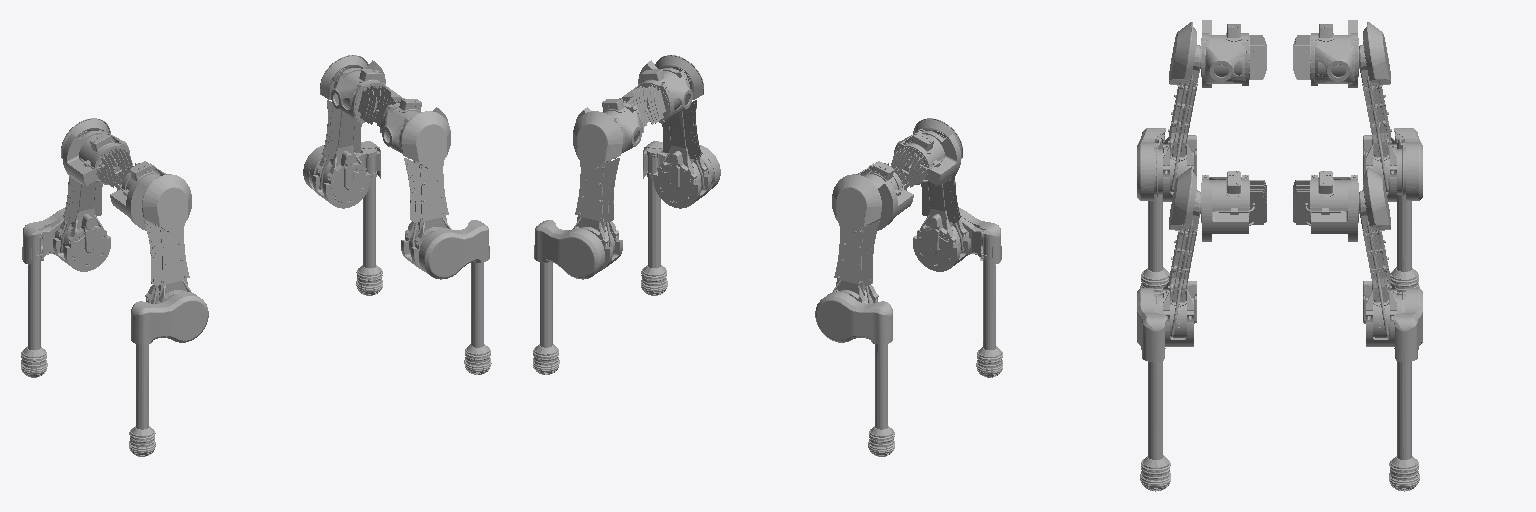
--- Facts derived from the render (not from the file) ---
The picture shows the robot from 3 angles, left to right: view 1: azimuth 30°, elevation 25°; view 2: azimuth 150°, elevation 25°; view 3: azimuth 270°, elevation 25°; orthographic projection.
Robot: anymal — 23 links, 22 joints (12 revolute, 10 fixed); root link ground; default pose: every joint at zero.
Links seen in each view (by area): view 1: RF_THIGH, RH_THIGH, LF_THIGH, LH_THIGH, RH_SHANK, LH_HIP, RF_SHANK, LF_HIP, LH_ADAPTER, LF_ADAPTER, RF_ADAPTER, RH_HIP (+4 smaller); view 2: LF_THIGH, LH_THIGH, RF_THIGH, RH_THIGH, LH_SHANK, RH_HIP, LF_SHANK, RF_HIP, RH_ADAPTER, RF_ADAPTER, LF_ADAPTER, LH_HIP (+4 smaller); view 3: LF_THIGH, RF_THIGH, LH_THIGH, RH_THIGH, LF_HIP, RF_HIP, LH_HIP, RH_HIP, RF_ADAPTER, LF_ADAPTER, LF_SHANK, RF_SHANK (+4 smaller).
Boxes of the visible links, x1,y1,x2,y2 form: RF_THIGH: (401, 111, 450, 271); RH_THIGH: (142, 174, 191, 303); LF_THIGH: (312, 55, 370, 208); LH_THIGH: (53, 118, 110, 271); RH_SHANK: (131, 292, 208, 344); LH_HIP: (63, 129, 132, 187); RF_SHANK: (419, 220, 489, 279); LF_HIP: (331, 60, 401, 124); LH_ADAPTER: (21, 230, 47, 377); LF_ADAPTER: (356, 148, 382, 295); RF_ADAPTER: (464, 262, 491, 374); RH_HIP: (110, 161, 167, 230); LF_THIGH: (573, 111, 622, 271); LH_THIGH: (832, 174, 881, 303); RF_THIGH: (653, 55, 711, 208); RH_THIGH: (913, 118, 970, 271); LH_SHANK: (815, 292, 892, 344); RH_HIP: (891, 129, 960, 187); LF_SHANK: (534, 220, 604, 279); RF_HIP: (622, 60, 692, 124); RH_ADAPTER: (976, 230, 1002, 377); RF_ADAPTER: (641, 148, 667, 295); LF_ADAPTER: (533, 262, 559, 374); LH_HIP: (856, 161, 913, 230); LF_THIGH: (1359, 167, 1401, 346); RF_THIGH: (1158, 167, 1200, 346); LH_THIGH: (1359, 22, 1401, 201); RH_THIGH: (1158, 22, 1200, 201); LF_HIP: (1293, 171, 1358, 241); RF_HIP: (1201, 171, 1266, 241); LH_HIP: (1293, 20, 1358, 87); RH_HIP: (1201, 20, 1266, 87); RF_ADAPTER: (1140, 361, 1170, 491); LF_ADAPTER: (1389, 361, 1419, 491); LF_SHANK: (1394, 288, 1422, 361); RF_SHANK: (1137, 288, 1165, 361).
Bounding box of the posed robot: 0.9429 × 0.568 × 0.6502 m (x, y, z).
Meshes: 8 distinct files referenced, 16 mesh visuals loaded (7 binary STL); not drawn: 1 (reference not matched to a file when rendering).

robot.urdf — anymal:
<?xml version="1.0" encoding="utf-8"?>
<!-- =================================================================================== -->
<!--   Copyright 2019 ANYbotics, https://www.anybotics.com                               -->
<!-- =================================================================================== -->
<!-- This file contains the description of the ANYmal B robot. -->
<robot name="anymal"
    xmlns:xacro="http://www.ros.org/wiki/xacro">  
    <!-- Material for the visual primitives -->  
    <material name="anymal_material">    
        <color rgba="0.7 0.7 0.7 1.0"/>  
    </material>  
      <link name="ground"/>
      <joint name="base_joint" type="fixed">
        <origin rpy="0 0 0" xyz="0 0 0.0"/>
        <parent link="ground"/>
        <child link="base"/>
      </joint>
    <!-- Base link -->  
    <link name="base">    
        <visual>      
            <origin rpy="0 0 0" xyz="0 0 0"/>      
            <geometry>        
                <mesh filename="../meshes/stl/anymal_base.stl" scale="0.001 0.001 0.001"/>      
            </geometry>      
            <material name="anymal_material"/>    
        </visual>    
        <collision>      
            <!-- Main Body -->      
            <origin rpy="0 0 0" xyz="0 0 0.08"/>      
            <geometry>        
                <box size="0.531 0.27 0.24"/>      
            </geometry>    
        </collision>    
        <collision>      
            <!-- HAA actuators -->      
            <origin rpy="0 1.57079632679 0" xyz="0.227 0.116 0"/>      
            <geometry>        
                <cylinder length="0.1" radius="0.05"/>      
            </geometry>    
        </collision>    
        <collision>      
            <origin rpy="0 1.57079632679 0" xyz="0.227 -0.116 0"/>      
            <geometry>        
                <cylinder length="0.1" radius="0.05"/>      
            </geometry>    
        </collision>    
        <collision>      
            <origin rpy="0 1.57079632679 0" xyz="-0.227 0.116 0"/>      
            <geometry>        
                <cylinder length="0.1" radius="0.05"/>      
            </geometry>    
        </collision>    
        <collision>      
            <origin rpy="0 1.57079632679 0" xyz="-0.227 -0.116 0"/>      
            <geometry>        
                <cylinder length="0.1" radius="0.05"/>      
            </geometry>    
        </collision>    
        <collision>      
            <!-- Belly plate front bump -->      
            <origin rpy="0 0 0" xyz="0.2155 0.0 -0.09"/>      
            <geometry>        
                <box size="0.1 0.1 0.07"/>      
            </geometry>    
        </collision>    
        <collision>      
            <!-- Belly plate hind bump-->      
            <origin rpy="0 0 0" xyz="-0.2155 0.0 -0.09"/>      
            <geometry>        
                <box size="0.1 0.1 0.07"/>      
            </geometry>    
        </collision>    
        <collision>      
            <!-- Belly plate middle bump-->      
            <origin rpy="0 0 0" xyz="0 0 -0.09"/>      
            <geometry>        
                <box size="0.531 0.02 0.07"/>      
            </geometry>    
        </collision>  
    </link>  
    <!-- Fixed joint to add dummy inertia link -->  
    <joint name="base_to_base_inertia" type="fixed">    
        <parent link="base"/>    
        <child link="base_inertia"/>    
        <origin rpy="0 0 0" xyz="0 0 0"/>  
    </joint>  
    <!-- Dummy inertia link, because KDL cannot have inertia on the base link -->  
    <link name="base_inertia">    
        <inertial>      
            <origin rpy="0 0 0" xyz="-0.001960558279 -0.001413217745 0.050207125344"/>      
            <mass value="16.793507758"/>      
            <inertia ixx="0.217391101503" ixy="-0.00132873239126" ixz="-0.00228200226173" iyy="0.639432546734" iyz="-0.00138078263145" izz="0.62414077654"/>    
        </inertial>  
    </link>  
    <link name="LF_HIP">    
        <visual>      
            <origin rpy="0 0 0.0" xyz="0 0 0"/>      
            <geometry>        
                <mesh filename="../meshes/stl/anymal_hip_l.stl" scale="0.001 0.001     0.001"/>      
            </geometry>      
            <material name="anymal_material"/>    
        </visual>    
        <collision>      
            <!-- Protector -->      
            <origin rpy="1.57079632679 0 0" xyz="0.0635 -0.009 0.0"/>      
            <geometry>        
                <cylinder length="0.1" radius="0.08"/>      
            </geometry>    
        </collision>    
        <collision>      
            <!-- Heatfins -->      
            <origin rpy="1.57079632679 0 0" xyz="0.0635 -0.074 0.0"/>      
            <geometry>        
                <cylinder length="0.03" radius="0.045"/>      
            </geometry>    
        </collision>    
        <inertial>      
            <origin rpy="0 0 0" xyz="0.064516258147 -0.003787101702 -0.000152184388"/>      
            <mass value="1.42462064"/>      
            <inertia ixx="0.00243023349564" ixy="-1.53023971e-05" ixz="-2.1819095354e-05" iyy="0.00230257239103" iyz="2.6473021273e-05" izz="0.0019806759227"/>    
        </inertial>  
    </link>  
    <!-- Hip joint -->  
    <joint name="LF_HAA" type="revolute">    
        <parent link="base"/>    
        <child link="LF_HIP"/>    
        <origin xyz="0.277 0.116 0.0"/>    
        <axis xyz="1 0 0"/>    
        <limit command_effort="40" current="10" effort="80" gear_velocity="10" lower="-9.42" upper="9.42" velocity="15"/>    
        <dynamics damping="0.0" friction="0.0"/>  
    </joint>  
    <link name="LF_THIGH">    
        <visual>      
            <origin rpy="0 0 0.0" xyz="0 0 0"/>      
            <geometry>        
                <mesh filename="../meshes/stl/anymal_thigh_l.stl" scale="0.001 0.001     0.001"/>      
            </geometry>      
            <material name="anymal_material"/>    
        </visual>    
        <collision>      
            <!-- thigh with heat fins -->      
            <origin rpy="0.145 0 0" xyz="0 0.035 -0.125"/>      
            <geometry>        
                <box size="0.08 0.04 0.25"/>      
            </geometry>    
        </collision>    
        <collision>      
            <!-- KFE actuator -->      
            <origin rpy="1.57079632679 0 0" xyz="0.0 0.069 -0.25"/>      
            <geometry>        
                <cylinder length="0.12" radius="0.06"/>      
            </geometry>    
        </collision>    
        <collision>      
            <!-- upper protector -->      
            <origin rpy="1.71579632679 0 0" xyz="0 -0.005 0"/>      
            <geometry>        
                <cylinder length="0.12" radius="0.066"/>      
            </geometry>    
        </collision>    
        <inertial>      
            <origin rpy="0 0 0" xyz="-0.003897968082 0.054226618537 -0.214583373795"/>      
            <mass value="1.634976467"/>      
            <inertia ixx="0.0120367944369" ixy="6.762065206e-05" ixz="0.000287806340448" iyy="0.0120643637939" iyz="-0.00140610131218" izz="0.00249422574881"/>    
        </inertial>  
    </link>  
    <!-- Thigh joint -->  
    <joint name="LF_HFE" type="revolute">    
        <parent link="LF_HIP"/>    
        <child link="LF_THIGH"/>    
        <origin xyz="0.0635                    0.041                    0.0"/>    
        <axis xyz="0 1 0"/>    
        <limit command_effort="40" current="10" effort="80" gear_velocity="10" lower="-9.42" upper="9.42" velocity="15.0"/>    
        <dynamics damping="0.0" friction="0.0"/>  
    </joint>  
    <link name="LF_SHANK">    
        <visual>      
            <origin rpy="0 0 0.0" xyz="0 0 0"/>      
            <geometry>        
                <mesh filename="../meshes/stl/anymal_shank_l.stl" scale="0.001 0.001     0.001"/>      
            </geometry>      
            <material name="anymal_material"/>    
        </visual>    
        <collision>      
            <origin rpy="0 1.57079632679 0" xyz="0.065 -0.015 0.01"/>      
            <geometry>        
                <box size="0.08 0.07 0.13"/>      
            </geometry>    
        </collision>    
        <inertial>      
            <origin rpy="0 0 0" xyz="0.030816858139 -0.004617229294 0.000893125713"/>      
            <mass value="0.207204302"/>      
            <inertia ixx="0.0002104880248" ixy="-5.6750980345e-05" ixz="1.0127699391e-05" iyy="0.000676270210023" iyz="-8.22869024e-07" izz="0.000545032674924"/>    
        </inertial>  
    </link>  
    <!-- Shank joint -->  
    <joint name="LF_KFE" type="revolute">    
        <parent link="LF_THIGH"/>    
        <child link="LF_SHANK"/>    
        <origin xyz="0.0 0.109 -0.25"/>    
        <axis xyz="0 1 0"/>    
        <limit command_effort="40" current="10" effort="80" gear_velocity="10" lower="-9.42" upper="9.42" velocity="15.0"/>    
        <dynamics damping="0.0" friction="0.0"/>  
    </joint>  
    <!-- Shank to Adapter joint -->  
    <joint name="LF_SHANK_TO_ADAPTER" type="fixed">    
        <parent link="LF_SHANK"/>    
        <child link="LF_ADAPTER"/>    
        <origin rpy="0.0 0.0 0.0" xyz="0.1 -0.02 0.0"/>  
    </joint>  
    <!-- Adapter link -->  
    <link name="LF_ADAPTER">    
        <visual>      
            <origin rpy="0 0 0.0" xyz="0 0 0.032"/>      
            <geometry>        
                <mesh filename="../meshes/stl/anymal_foot.stl" scale="0.001 0.001     0.001"/>      
            </geometry>      
            <material name="anymal_material"/>    
        </visual>    
        <collision>      
            <origin rpy="0 0 0" xyz="0 0 -0.160625"/>      
            <geometry>        
                <cylinder length="0.32125" radius="0.015"/>      
            </geometry>      
            <material name="anymal_material"/>    
        </collision>    
        <inertial>      
            <origin rpy="0 0 0" xyz="-8.66e-10 -1.472e-09 -0.244345749188"/>      
            <mass value="0.140170767"/>      
            <inertia ixx="0.00159938741862" ixy="-9.32e-13" ixz="1.039e-11" iyy="0.00159938741932" iyz="1.7563e-11" izz="5.4423177329e-05"/>    
        </inertial>  
    </link>  
    <!-- Adapter to Foot joint -->  
    <joint name="LF_ADAPTER_TO_FOOT" type="fixed">    
        <parent link="LF_ADAPTER"/>    
        <child link="LF_FOOT"/>    
        <origin rpy="0.0 0.0 0.0" xyz="0.0 0.0 -0.32125"/>  
    </joint>  
    <!-- Foot link -->  
    <link name="LF_FOOT">    
        <collision>      
            <origin xyz="0 0 0.02325"/>      
            <geometry>        
                <sphere radius="0.031"/>      
            </geometry>    
        </collision>  
    </link>  
    <!-- Gazebo customization -->  
    <gazebo reference="LF_FOOT">    
        <kp>1000000.0</kp>    
        <kd>100.0</kd>    
        <mu1>0.8</mu1>    
        <mu2>0.8</mu2>  
    </gazebo>  
    <link name="RF_HIP">    
        <visual>      
            <origin rpy="0 0 0.0" xyz="0 0 0"/>      
            <geometry>        
                <mesh filename="../meshes/stl/anymal_hip_r.stl" scale="0.001 0.001     0.001"/>      
            </geometry>      
            <material name="anymal_material"/>    
        </visual>    
        <collision>      
            <!-- Protector -->      
            <origin rpy="1.57079632679 0 0" xyz="0.0635 0.009 0.0"/>      
            <geometry>        
                <cylinder length="0.1" radius="0.08"/>      
            </geometry>    
        </collision>    
        <collision>      
            <!-- Heatfins -->      
            <origin rpy="1.57079632679 0 0" xyz="0.0635 0.074 0.0"/>      
            <geometry>        
                <cylinder length="0.03" radius="0.045"/>      
            </geometry>    
        </collision>    
        <inertial>      
            <origin rpy="0 0 0" xyz="0.064516258147 0.003787101702 -0.000152184388"/>      
            <mass value="1.42462064"/>      
            <inertia ixx="0.00243023349564" ixy="1.53023971e-05" ixz="-2.1819095354e-05" iyy="0.00230257239103" iyz="-2.6473021273e-05" izz="0.0019806759227"/>    
        </inertial>  
    </link>  
    <!-- Hip joint -->  
    <joint name="RF_HAA" type="revolute">    
        <parent link="base"/>    
        <child link="RF_HIP"/>    
        <origin xyz="0.277 -0.116 0.0"/>    
        <axis xyz="1 0 0"/>    
        <limit command_effort="40" current="10" effort="80" gear_velocity="10" lower="-9.42" upper="9.42" velocity="15"/>    
        <dynamics damping="0.0" friction="0.0"/>  
    </joint>  
    <link name="RF_THIGH">    
        <visual>      
            <origin rpy="0 0 0.0" xyz="0 0 0"/>      
            <geometry>        
                <mesh filename="../meshes/stl/anymal_thigh_r.stl" scale="0.001 0.001     0.001"/>      
            </geometry>      
            <material name="anymal_material"/>    
        </visual>    
        <collision>      
            <!-- thigh with heat fins -->      
            <origin rpy="-0.145 0 0" xyz="0 -0.035 -0.125"/>      
            <geometry>        
                <box size="0.08 0.04 0.25"/>      
            </geometry>    
        </collision>    
        <collision>      
            <!-- KFE actuator -->      
            <origin rpy="1.57079632679 0 0" xyz="0.0 -0.069 -0.25"/>      
            <geometry>        
                <cylinder length="0.12" radius="0.06"/>      
            </geometry>    
        </collision>    
        <collision>      
            <!-- upper protector -->      
            <origin rpy="-1.71579632679 0 0" xyz="0 0.005 0"/>      
            <geometry>        
                <cylinder length="0.12" radius="0.066"/>      
            </geometry>    
        </collision>    
        <inertial>      
            <origin rpy="0 0 0" xyz="-0.003897968082 -0.054226618537 -0.214583373795"/>      
            <mass value="1.634976467"/>      
            <inertia ixx="0.0120367944369" ixy="-6.762065206e-05" ixz="0.000287806340448" iyy="0.0120643637939" iyz="0.00140610131218" izz="0.00249422574881"/>    
        </inertial>  
    </link>  
    <!-- Thigh joint -->  
    <joint name="RF_HFE" type="revolute">    
        <parent link="RF_HIP"/>    
        <child link="RF_THIGH"/>    
        <origin xyz="0.0635                    -0.041                    0.0"/>    
        <axis xyz="0 1 0"/>    
        <limit command_effort="40" current="10" effort="80" gear_velocity="10" lower="-9.42" upper="9.42" velocity="15.0"/>    
        <dynamics damping="0.0" friction="0.0"/>  
    </joint>  
    <link name="RF_SHANK">    
        <visual>      
            <origin rpy="0 0 0.0" xyz="0 0 0"/>      
            <geometry>        
                <mesh filename="../meshes/stl/anymal_shank_r.stl" scale="0.001 0.001     0.001"/>      
            </geometry>      
            <material name="anymal_material"/>    
        </visual>    
        <collision>      
            <origin rpy="0 1.57079632679 0" xyz="0.065 0.015 0.01"/>      
            <geometry>        
                <box size="0.08 0.07 0.13"/>      
            </geometry>    
        </collision>    
        <inertial>      
            <origin rpy="0 0 0" xyz="0.030816858139 0.004617229294 0.000893125713"/>      
            <mass value="0.207204302"/>      
            <inertia ixx="0.0002104880248" ixy="5.6750980345e-05" ixz="1.0127699391e-05" iyy="0.000676270210023" iyz="8.22869024e-07" izz="0.000545032674924"/>    
        </inertial>  
    </link>  
    <!-- Shank joint -->  
    <joint name="RF_KFE" type="revolute">    
        <parent link="RF_THIGH"/>    
        <child link="RF_SHANK"/>    
        <origin xyz="0.0 -0.109 -0.25"/>    
        <axis xyz="0 1 0"/>    
        <limit command_effort="40" current="10" effort="80" gear_velocity="10" lower="-9.42" upper="9.42" velocity="15.0"/>    
        <dynamics damping="0.0" friction="0.0"/>  
    </joint>  
    <!-- Shank to Adapter joint -->  
    <joint name="RF_SHANK_TO_ADAPTER" type="fixed">    
        <parent link="RF_SHANK"/>    
        <child link="RF_ADAPTER"/>    
        <origin rpy="-0.0 0.0 -0.0" xyz="0.1 0.02 0.0"/>  
    </joint>  
    <!-- Adapter link -->  
    <link name="RF_ADAPTER">    
        <visual>      
            <origin rpy="0 0 0.0" xyz="0 0 0.032"/>      
            <geometry>        
                <mesh filename="../meshes/stl/anymal_foot.stl" scale="0.001 0.001     0.001"/>      
            </geometry>      
            <material name="anymal_material"/>    
        </visual>    
        <collision>      
            <origin rpy="0 0 0" xyz="0 0 -0.160625"/>      
            <geometry>        
                <cylinder length="0.32125" radius="0.015"/>      
            </geometry>      
            <material name="anymal_material"/>    
        </collision>    
        <inertial>      
            <origin rpy="0 0 0" xyz="-8.66e-10 -1.472e-09 -0.244345749188"/>      
            <mass value="0.140170767"/>      
            <inertia ixx="0.00159938741862" ixy="-9.32e-13" ixz="1.039e-11" iyy="0.00159938741932" iyz="1.7563e-11" izz="5.4423177329e-05"/>    
        </inertial>  
    </link>  
    <!-- Adapter to Foot joint -->  
    <joint name="RF_ADAPTER_TO_FOOT" type="fixed">    
        <parent link="RF_ADAPTER"/>    
        <child link="RF_FOOT"/>    
        <origin rpy="-0.0 0.0 -0.0" xyz="0.0 -0.0 -0.32125"/>  
    </joint>  
    <!-- Foot link -->  
    <link name="RF_FOOT">    
        <collision>      
            <origin xyz="0 0 0.02325"/>      
            <geometry>        
                <sphere radius="0.031"/>      
            </geometry>    
        </collision>  
    </link>  
    <!-- Gazebo customization -->  
    <gazebo reference="RF_FOOT">    
        <kp>1000000.0</kp>    
        <kd>100.0</kd>    
        <mu1>0.8</mu1>    
        <mu2>0.8</mu2>  
    </gazebo>  
    <link name="LH_HIP">    
        <visual>      
            <origin rpy="0 0 -3.14159265359" xyz="0 0 0"/>      
            <geometry>        
                <mesh filename="../meshes/stl/anymal_hip_r.stl" scale="0.001 0.001     0.001"/>      
            </geometry>      
            <material name="anymal_material"/>    
        </visual>    
        <collision>      
            <!-- Protector -->      
            <origin rpy="-1.57079632679 0 0" xyz="-0.0635 -0.009 0.0"/>      
            <geometry>        
                <cylinder length="0.1" radius="0.08"/>      
            </geometry>    
        </collision>    
        <collision>      
            <!-- Heatfins -->      
            <origin rpy="-1.57079632679 0 0" xyz="-0.0635 -0.074 0.0"/>      
            <geometry>        
                <cylinder length="0.03" radius="0.045"/>      
            </geometry>    
        </collision>    
        <inertial>      
            <origin rpy="0 0 0" xyz="-0.064516258147 -0.003787101702 -0.000152184388"/>      
            <mass value="1.42462064"/>      
            <inertia ixx="0.00243023349564" ixy="1.53023971e-05" ixz="2.1819095354e-05" iyy="0.00230257239103" iyz="2.6473021273e-05" izz="0.0019806759227"/>    
        </inertial>  
    </link>  
    <!-- Hip joint -->  
    <joint name="LH_HAA" type="revolute">    
        <parent link="base"/>    
        <child link="LH_HIP"/>    
        <origin xyz="-0.277 0.116 0.0"/>    
        <axis xyz="1 0 0"/>    
        <limit command_effort="40" current="10" effort="80" gear_velocity="10" lower="-9.42" upper="9.42" velocity="15"/>    
        <dynamics damping="0.0" friction="0.0"/>  
    </joint>  
    <link name="LH_THIGH">    
        <visual>      
            <origin rpy="0 0 -3.14159265359" xyz="0 0 0"/>      
            <geometry>        
                <mesh filename="../meshes/stl/anymal_thigh_r.stl" scale="0.001 0.001     0.001"/>      
            </geometry>      
            <material name="anymal_material"/>    
        </visual>    
        <collision>      
            <!-- thigh with heat fins -->      
            <origin rpy="0.145 0 0" xyz="0 0.035 -0.125"/>      
            <geometry>        
                <box size="0.08 0.04 0.25"/>      
            </geometry>    
        </collision>    
        <collision>      
            <!-- KFE actuator -->      
            <origin rpy="1.57079632679 0 0" xyz="0.0 0.069 -0.25"/>      
            <geometry>        
                <cylinder length="0.12" radius="0.06"/>      
            </geometry>    
        </collision>    
        <collision>      
            <!-- upper protector -->      
            <origin rpy="1.71579632679 0 0" xyz="0 -0.005 0"/>      
            <geometry>        
                <cylinder length="0.12" radius="0.066"/>      
            </geometry>    
        </collision>    
        <inertial>      
            <origin rpy="0 0 0" xyz="0.003897968082 0.054226618537 -0.214583373795"/>      
            <mass value="1.634976467"/>      
            <inertia ixx="0.0120367944369" ixy="-6.762065206e-05" ixz="-0.000287806340448" iyy="0.0120643637939" iyz="-0.00140610131218" izz="0.00249422574881"/>    
        </inertial>  
    </link>  
    <!-- Thigh joint -->  
    <joint name="LH_HFE" type="revolute">    
        <parent link="LH_HIP"/>    
        <child link="LH_THIGH"/>    
        <origin xyz="-0.0635                    0.041                    0.0"/>    
        <axis xyz="0 1 0"/>    
        <limit command_effort="40" current="10" effort="80" gear_velocity="10" lower="-9.42" upper="9.42" velocity="15.0"/>    
        <dynamics damping="0.0" friction="0.0"/>  
    </joint>  
    <link name="LH_SHANK">    
        <visual>      
            <origin rpy="0 0 -3.14159265359" xyz="0 0 0"/>      
            <geometry>        
                <mesh filename="../meshes/stl/anymal_shank_r.stl" scale="0.001 0.001     0.001"/>      
            </geometry>      
            <material name="anymal_material"/>    
        </visual>    
        <collision>      
            <origin rpy="0 1.57079632679 0" xyz="-0.065 -0.015 0.01"/>      
            <geometry>        
                <box size="0.08 0.07 0.13"/>      
            </geometry>    
        </collision>    
        <inertial>      
            <origin rpy="0 0 0" xyz="-0.030816858139 -0.004617229294 0.000893125713"/>      
            <mass value="0.207204302"/>      
            <inertia ixx="0.0002104880248" ixy="5.6750980345e-05" ixz="-1.0127699391e-05" iyy="0.000676270210023" iyz="-8.22869024e-07" izz="0.000545032674924"/>    
        </inertial>  
    </link>  
    <!-- Shank joint -->  
    <joint name="LH_KFE" type="revolute">    
        <parent link="LH_THIGH"/>    
        <child link="LH_SHANK"/>    
        <origin xyz="-0.0 0.109 -0.25"/>    
        <axis xyz="0 1 0"/>    
        <limit command_effort="40" current="10" effort="80" gear_velocity="10" lower="-9.42" upper="9.42" velocity="15.0"/>    
        <dynamics damping="0.0" friction="0.0"/>  
    </joint>  
    <!-- Shank to Adapter joint -->  
    <joint name="LH_SHANK_TO_ADAPTER" type="fixed">    
        <parent link="LH_SHANK"/>    
        <child link="LH_ADAPTER"/>    
        <origin rpy="0.0 -0.0 -0.0" xyz="-0.1 -0.02 0.0"/>  
    </joint>  
    <!-- Adapter link -->  
    <link name="LH_ADAPTER">    
        <visual>      
            <origin rpy="0 0 -3.14159265359" xyz="0 0 0.032"/>      
            <geometry>        
                <mesh filename="../meshes/stl/anymal_foot.stl" scale="0.001 0.001     0.001"/>      
            </geometry>      
            <material name="anymal_material"/>    
        </visual>    
        <collision>      
            <origin rpy="0 0 0" xyz="0 0 -0.160625"/>      
            <geometry>        
                <cylinder length="0.32125" radius="0.015"/>      
            </geometry>      
            <material name="anymal_material"/>    
        </collision>    
        <inertial>      
            <origin rpy="0 0 0" xyz="-8.66e-10 -1.472e-09 -0.244345749188"/>      
            <mass value="0.140170767"/>      
            <inertia ixx="0.00159938741862" ixy="-9.32e-13" ixz="1.039e-11" iyy="0.00159938741932" iyz="1.7563e-11" izz="5.4423177329e-05"/>    
        </inertial>  
    </link>  
    <!-- Adapter to Foot joint -->  
    <joint name="LH_ADAPTER_TO_FOOT" type="fixed">    
        <parent link="LH_ADAPTER"/>    
        <child link="LH_FOOT"/>    
        <origin rpy="0.0 -0.0 -0.0" xyz="-0.0 0.0 -0.32125"/>  
    </joint>  
    <!-- Foot link -->  
    <link name="LH_FOOT">    
        <collision>      
            <origin xyz="0 0 0.02325"/>      
            <geometry>        
                <sphere radius="0.031"/>      
            </geometry>    
        </collision>  
    </link>  
    <!-- Gazebo customization -->  
    <gazebo reference="LH_FOOT">    
        <kp>1000000.0</kp>    
        <kd>100.0</kd>    
        <mu1>0.8</mu1>    
        <mu2>0.8</mu2>  
    </gazebo>  
    <link name="RH_HIP">    
        <visual>      
            <origin rpy="0 0 -3.14159265359" xyz="0 0 0"/>      
            <geometry>        
                <mesh filename="../meshes/stl/anymal_hip_l.stl" scale="0.001 0.001     0.001"/>      
            </geometry>      
            <material name="anymal_material"/>    
        </visual>    
        <collision>      
            <!-- Protector -->      
            <origin rpy="-1.57079632679 0 0" xyz="-0.0635 0.009 0.0"/>      
            <geometry>        
                <cylinder length="0.1" radius="0.08"/>      
            </geometry>    
        </collision>    
        <collision>      
            <!-- Heatfins -->      
            <origin rpy="-1.57079632679 0 0" xyz="-0.0635 0.074 0.0"/>      
            <geometry>        
                <cylinder length="0.03" radius="0.045"/>      
            </geometry>    
        </collision>    
        <inertial>      
            <origin rpy="0 0 0" xyz="-0.064516258147 0.003787101702 -0.000152184388"/>      
            <mass value="1.42462064"/>      
            <inertia ixx="0.00243023349564" ixy="-1.53023971e-05" ixz="2.1819095354e-05" iyy="0.00230257239103" iyz="-2.6473021273e-05" izz="0.0019806759227"/>    
        </inertial>  
    </link>  
    <!-- Hip joint -->  
    <joint name="RH_HAA" type="revolute">    
        <parent link="base"/>    
        <child link="RH_HIP"/>    
        <origin xyz="-0.277 -0.116 0.0"/>    
        <axis xyz="1 0 0"/>    
        <limit command_effort="40" current="10" effort="80" gear_velocity="10" lower="-9.42" upper="9.42" velocity="15"/>    
        <dynamics damping="0.0" friction="0.0"/>  
    </joint>  
    <link name="RH_THIGH">    
        <visual>      
            <origin rpy="0 0 -3.14159265359" xyz="0 0 0"/>      
            <geometry>        
                <mesh filename="../meshes/stl/anymal_thigh_l.stl" scale="0.001 0.001     0.001"/>      
            </geometry>      
            <material name="anymal_material"/>    
        </visual>    
        <collision>      
            <!-- thigh with heat fins -->      
            <origin rpy="-0.145 0 0" xyz="0 -0.035 -0.125"/>      
            <geometry>        
                <box size="0.08 0.04 0.25"/>      
            </geometry>    
        </collision>    
        <collision>      
            <!-- KFE actuator -->      
            <origin rpy="1.57079632679 0 0" xyz="0.0 -0.069 -0.25"/>      
            <geometry>        
                <cylinder length="0.12" radius="0.06"/>      
            </geometry>    
        </collision>    
        <collision>      
            <!-- upper protector -->      
            <origin rpy="-1.71579632679 0 0" xyz="0 0.005 0"/>      
            <geometry>        
                <cylinder length="0.12" radius="0.066"/>      
            </geometry>    
        </collision>    
        <inertial>      
            <origin rpy="0 0 0" xyz="0.003897968082 -0.054226618537 -0.214583373795"/>      
            <mass value="1.634976467"/>      
            <inertia ixx="0.0120367944369" ixy="6.762065206e-05" ixz="-0.000287806340448" iyy="0.0120643637939" iyz="0.00140610131218" izz="0.00249422574881"/>    
        </inertial>  
    </link>  
    <!-- Thigh joint -->  
    <joint name="RH_HFE" type="revolute">    
        <parent link="RH_HIP"/>    
        <child link="RH_THIGH"/>    
        <origin xyz="-0.0635                    -0.041                    0.0"/>    
        <axis xyz="0 1 0"/>    
        <limit command_effort="40" current="10" effort="80" gear_velocity="10" lower="-9.42" upper="9.42" velocity="15.0"/>    
        <dynamics damping="0.0" friction="0.0"/>  
    </joint>  
    <link name="RH_SHANK">    
        <visual>      
            <origin rpy="0 0 -3.14159265359" xyz="0 0 0"/>      
            <geometry>        
                <mesh filename="../meshes/stl/anymal_shank_l.stl" scale="0.001 0.001     0.001"/>      
            </geometry>      
            <material name="anymal_material"/>    
        </visual>    
        <collision>      
            <origin rpy="0 1.57079632679 0" xyz="-0.065 0.015 0.01"/>      
            <geometry>        
                <box size="0.08 0.07 0.13"/>      
            </geometry>    
        </collision>    
        <inertial>      
            <origin rpy="0 0 0" xyz="-0.030816858139 0.004617229294 0.000893125713"/>      
            <mass value="0.207204302"/>      
            <inertia ixx="0.0002104880248" ixy="-5.6750980345e-05" ixz="-1.0127699391e-05" iyy="0.000676270210023" iyz="8.22869024e-07" izz="0.000545032674924"/>    
        </inertial>  
    </link>  
    <!-- Shank joint -->  
    <joint name="RH_KFE" type="revolute">    
        <parent link="RH_THIGH"/>    
        <child link="RH_SHANK"/>    
        <origin xyz="-0.0 -0.109 -0.25"/>    
        <axis xyz="0 1 0"/>    
        <limit command_effort="40" current="10" effort="80" gear_velocity="10" lower="-9.42" upper="9.42" velocity="15.0"/>    
        <dynamics damping="0.0" friction="0.0"/>  
    </joint>  
    <!-- Shank to Adapter joint -->  
    <joint name="RH_SHANK_TO_ADAPTER" type="fixed">    
        <parent link="RH_SHANK"/>    
        <child link="RH_ADAPTER"/>    
        <origin rpy="-0.0 -0.0 0.0" xyz="-0.1 0.02 0.0"/>  
    </joint>  
    <!-- Adapter link -->  
    <link name="RH_ADAPTER">    
        <visual>      
            <origin rpy="0 0 -3.14159265359" xyz="0 0 0.032"/>      
            <geometry>        
                <mesh filename="../meshes/stl/anymal_foot.stl" scale="0.001 0.001     0.001"/>      
            </geometry>      
            <material name="anymal_material"/>    
        </visual>    
        <collision>      
            <origin rpy="0 0 0" xyz="0 0 -0.160625"/>      
            <geometry>        
                <cylinder length="0.32125" radius="0.015"/>      
            </geometry>      
            <material name="anymal_material"/>    
        </collision>    
        <inertial>      
            <origin rpy="0 0 0" xyz="-8.66e-10 -1.472e-09 -0.244345749188"/>      
            <mass value="0.140170767"/>      
            <inertia ixx="0.00159938741862" ixy="-9.32e-13" ixz="1.039e-11" iyy="0.00159938741932" iyz="1.7563e-11" izz="5.4423177329e-05"/>    
        </inertial>  
    </link>  
    <!-- Adapter to Foot joint -->  
    <joint name="RH_ADAPTER_TO_FOOT" type="fixed">    
        <parent link="RH_ADAPTER"/>    
        <child link="RH_FOOT"/>    
        <origin rpy="-0.0 -0.0 0.0" xyz="-0.0 -0.0 -0.32125"/>  
    </joint>  
    <!-- Foot link -->  
    <link name="RH_FOOT">    
        <collision>      
            <origin xyz="0 0 0.02325"/>      
            <geometry>        
                <sphere radius="0.031"/>      
            </geometry>    
        </collision>  
    </link>  
    <!-- Gazebo customization -->  
</robot>
